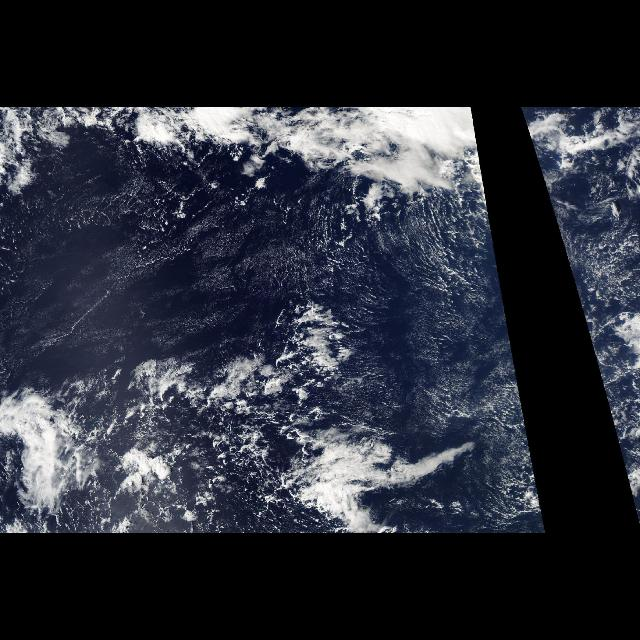Gravel: (15, 324, 429, 532)
Sugar: (11, 163, 536, 475), (536, 163, 636, 475)
